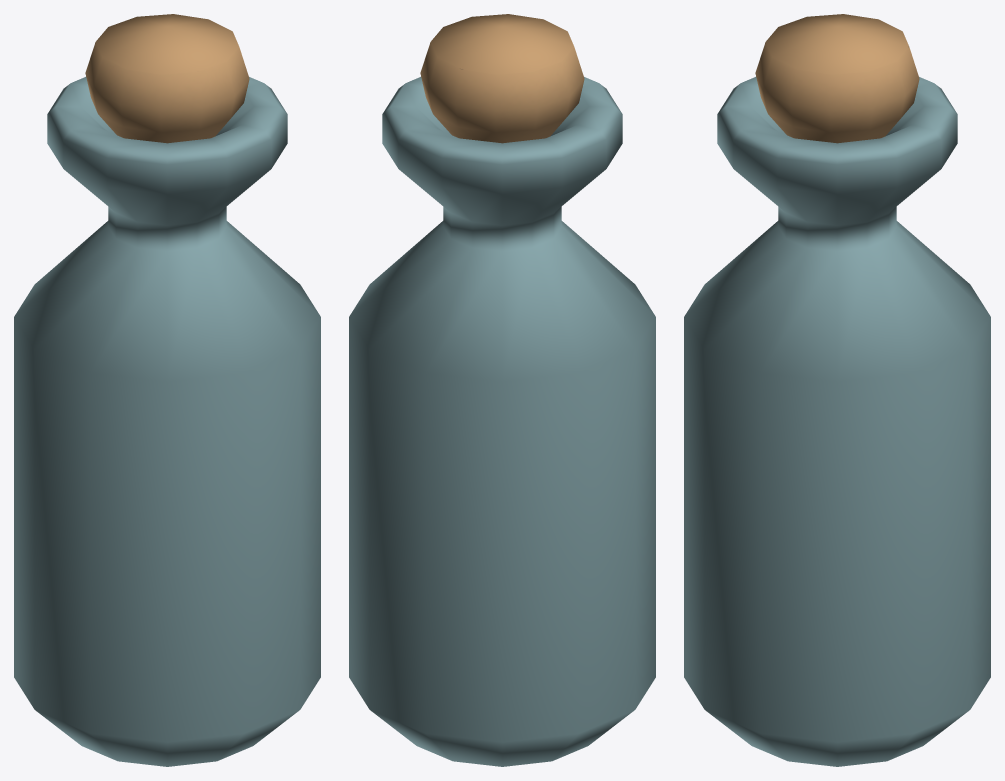
Rendered from SM_potion.fbx.
The picture shows the model from 3 angles, left to right: view 1: azimuth 30°, elevation 25°; view 2: azimuth 150°, elevation 25°; view 3: azimuth 270°, elevation 25°; orthographic projection.
Visible parts, largest first — view 1: SM_potion; view 2: SM_potion; view 3: SM_potion.
Boxes of the visible parts, x1,y1,x2,y2 form: SM_potion: (14, 14, 320, 766); SM_potion: (349, 14, 655, 766); SM_potion: (684, 14, 990, 766).
Size of the model in its own units: 0.2718 by 0.6824 by 0.2718.
